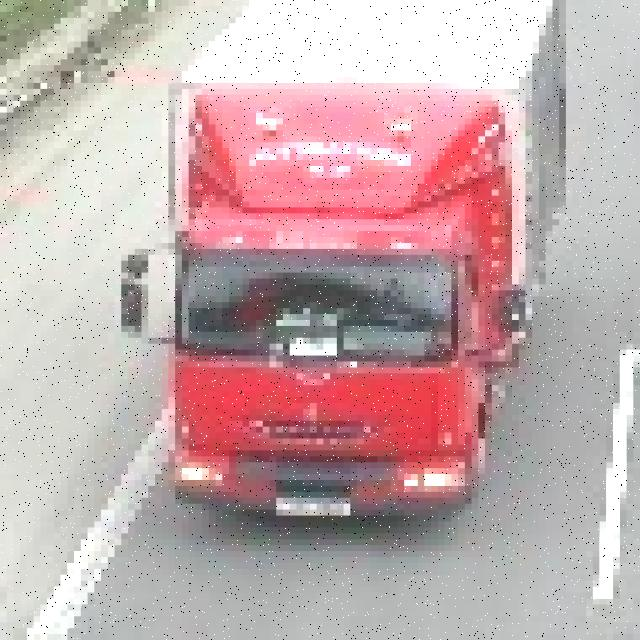truck: (129, 0, 573, 521)
